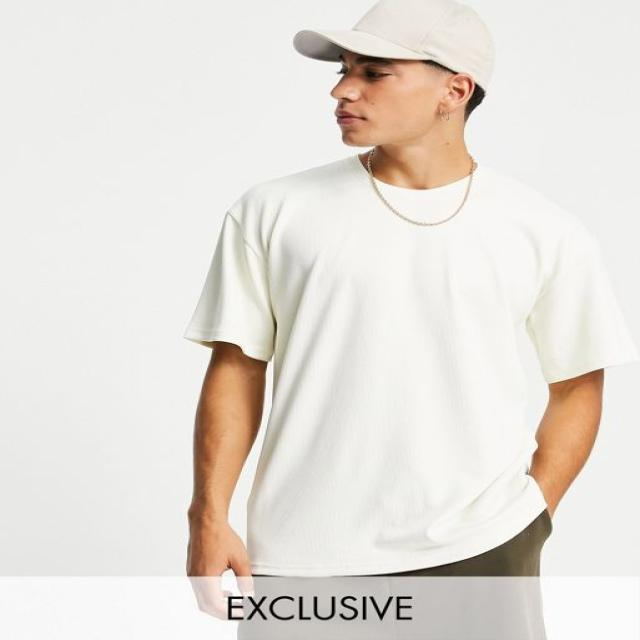tshirt: (185, 152, 626, 574)
